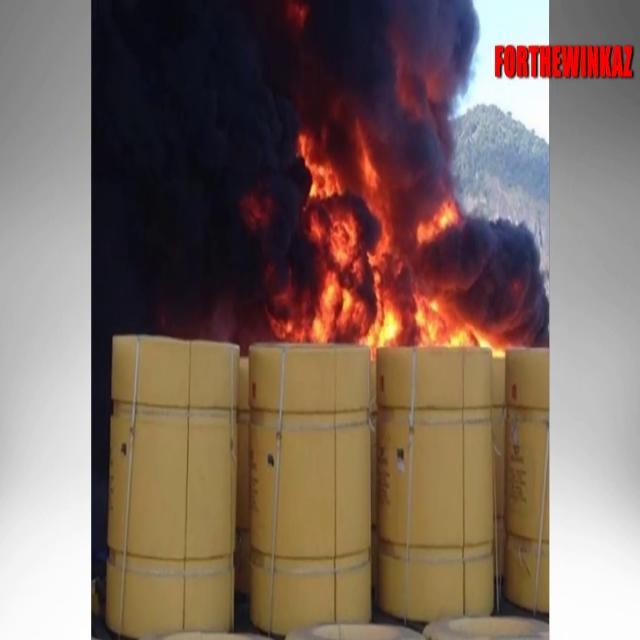Fire: (268, 130, 514, 353)
